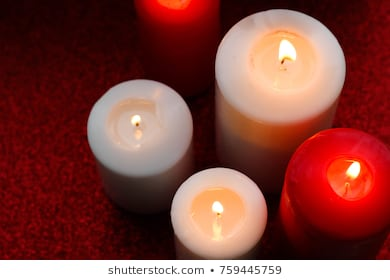Fire: (340, 155, 366, 181), (271, 36, 298, 61), (209, 199, 224, 219), (128, 109, 142, 129)
